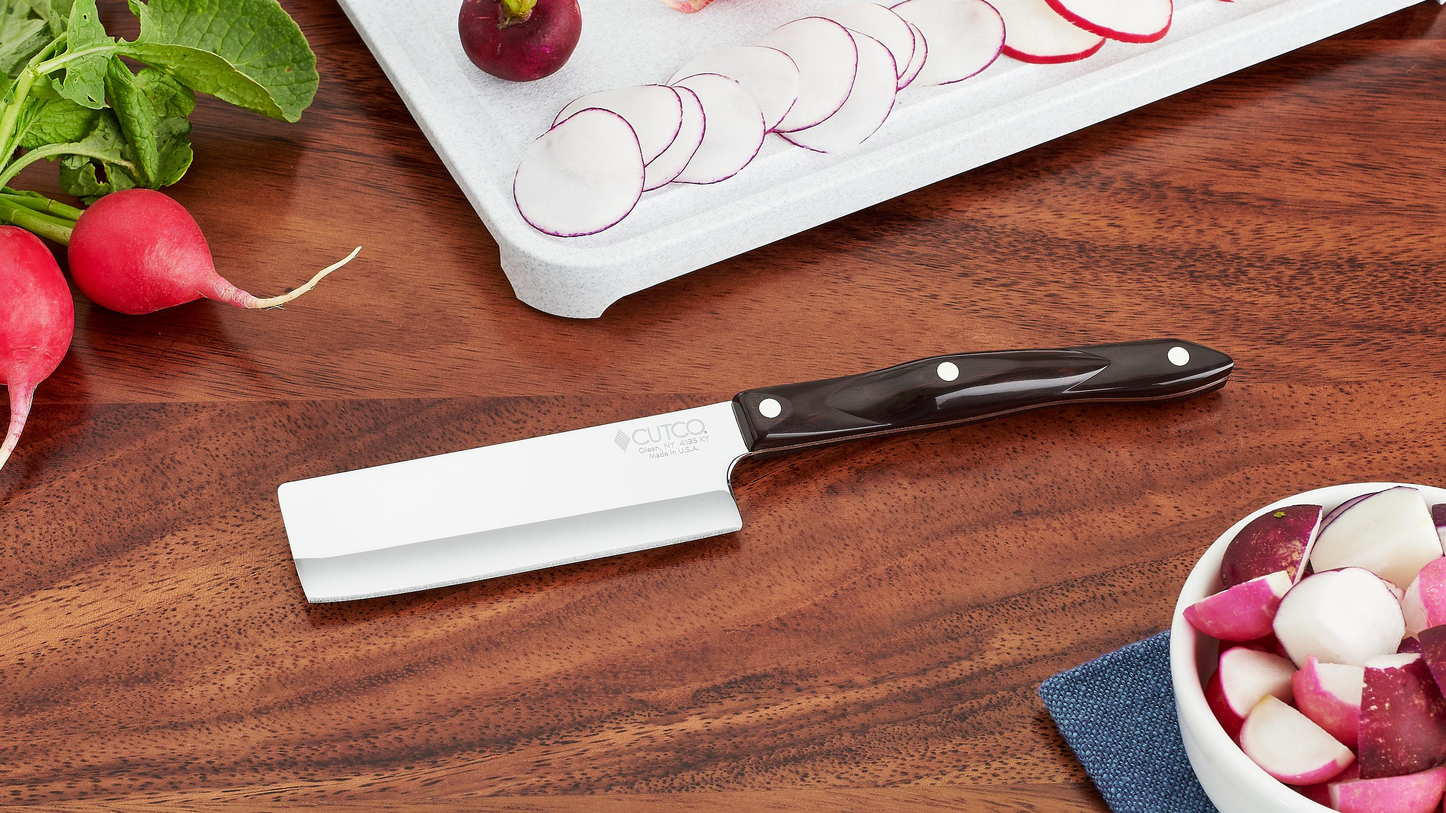Knife: (281, 336, 1236, 604)
